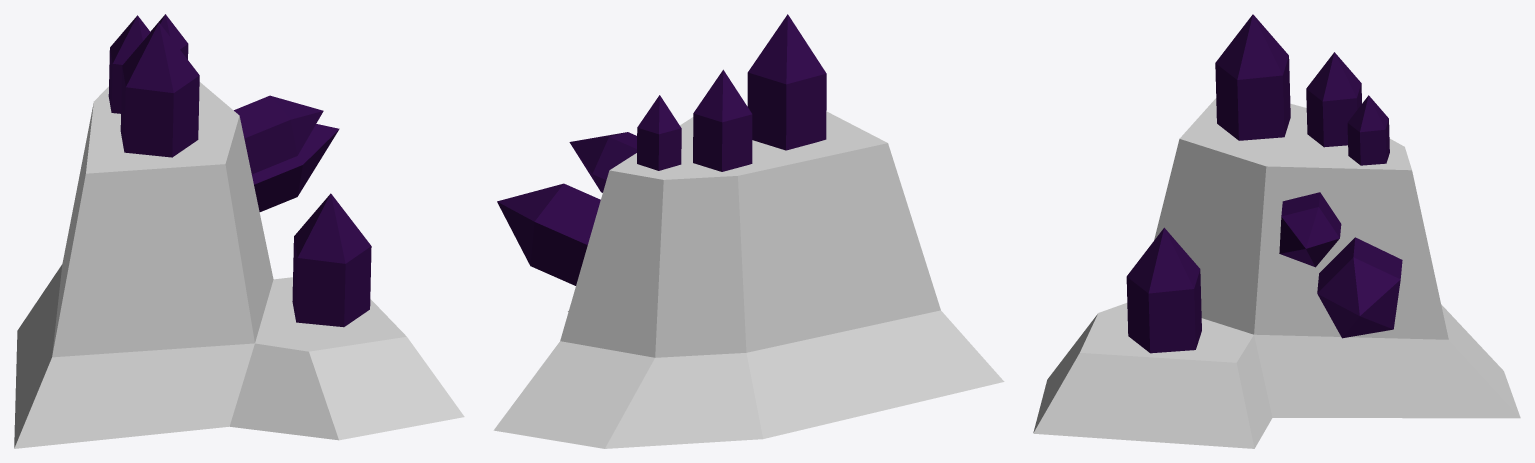
File: Obsidiana_Tipo3.fbx
3 views of the same model, side by side, from view 1: azimuth 30°, elevation 25°; view 2: azimuth 150°, elevation 25°; view 3: azimuth 270°, elevation 25° (orthographic). The views are drawn at different scales.
Parts seen in each view (by area): view 1: base.028, obsidiana.016, obsidiana.015, obsidiana.013, obsidiana.014, obsidiana.017, obsidiana.018; view 2: base.028, obsidiana.016, obsidiana.014, obsidiana.017, obsidiana.018, obsidiana.013; view 3: base.028, obsidiana.016, obsidiana.015, obsidiana.014, obsidiana.017, obsidiana.013, obsidiana.018.
Boxes of the visible parts, box(x1,y1,x2,y2) form: base.028: box(14, 82, 464, 448); obsidiana.016: box(120, 23, 199, 157); obsidiana.015: box(292, 193, 371, 327); obsidiana.013: box(234, 95, 323, 174); obsidiana.014: box(252, 124, 339, 211); obsidiana.017: box(108, 15, 150, 113); obsidiana.018: box(150, 14, 188, 59); base.028: box(493, 111, 1004, 448); obsidiana.016: box(747, 14, 826, 150); obsidiana.014: box(497, 183, 600, 285); obsidiana.017: box(693, 69, 752, 171); obsidiana.018: box(637, 95, 681, 170); obsidiana.013: box(569, 132, 636, 192); base.028: box(1033, 98, 1520, 448); obsidiana.016: box(1215, 14, 1290, 140); obsidiana.015: box(1126, 227, 1201, 353); obsidiana.014: box(1317, 237, 1402, 338); obsidiana.017: box(1306, 52, 1361, 147); obsidiana.013: box(1279, 192, 1341, 267); obsidiana.018: box(1347, 95, 1389, 165).
Size of the model in its own units: 78.18 by 63.19 by 83.81.
